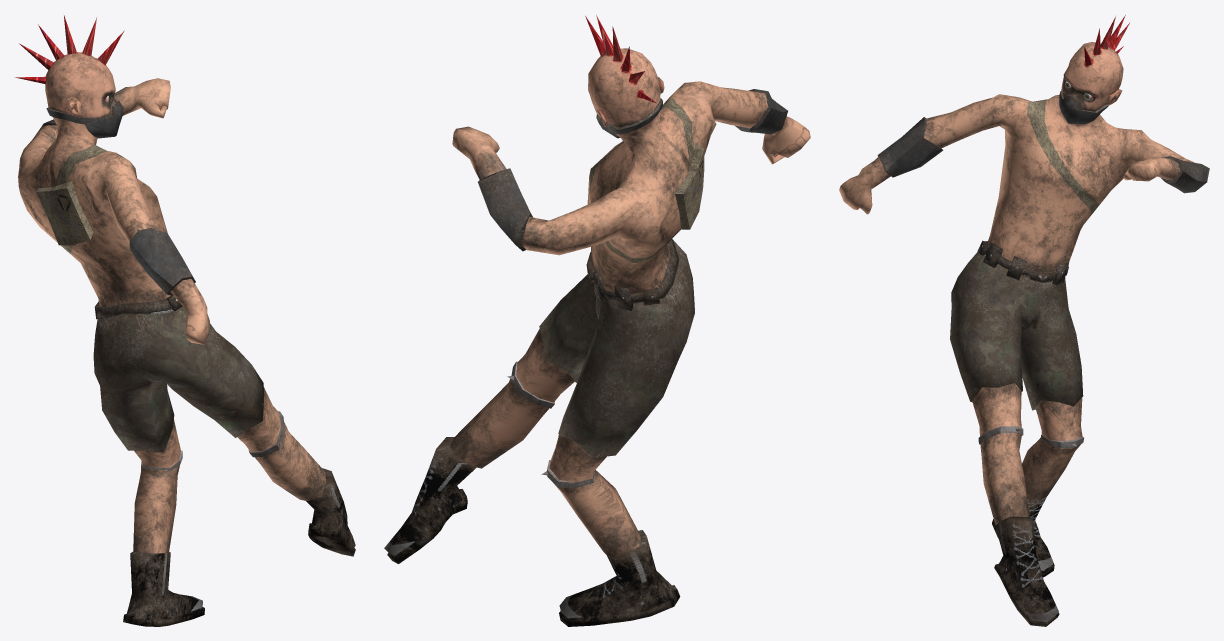
File: Anim_ataque_f1_npc2.0024.obj
3 renders of one model, left to right at view 1: azimuth 30°, elevation 25°; view 2: azimuth 150°, elevation 25°; view 3: azimuth 270°, elevation 25°, orthographic. The views are drawn at different scales.
Parts seen in each view (by area): view 1: polySurface1; view 2: polySurface1; view 3: polySurface1.
Part boxes in pixels (box(x1,y1,x2,y2)): polySurface1: box(15, 15, 355, 626); polySurface1: box(384, 15, 810, 626); polySurface1: box(839, 15, 1209, 626).
Bounding box in the file's own units: 4.96 × 9.56 × 6.13.
2 materials, 2 textured.
